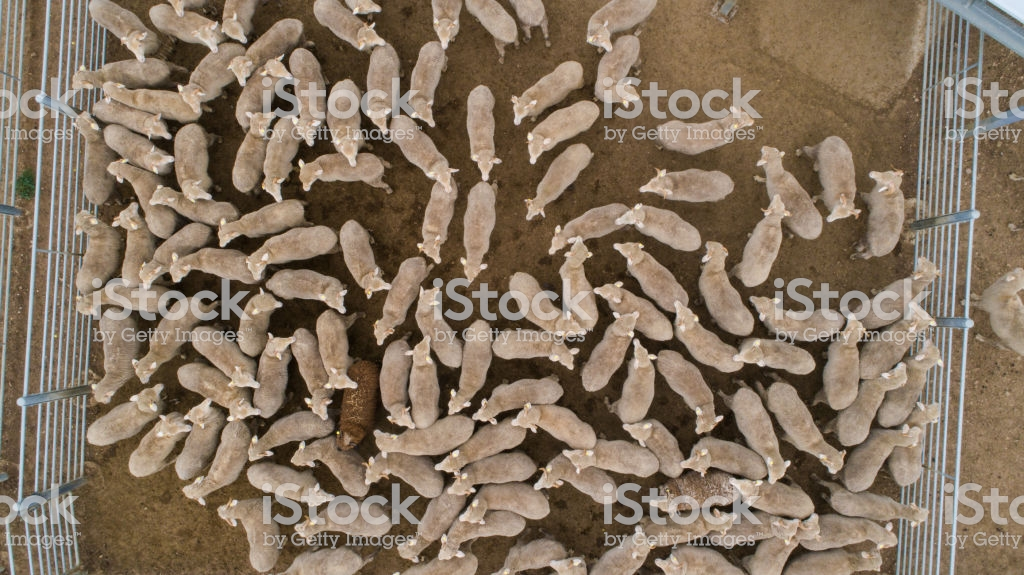sheep: (719, 383, 791, 487), (829, 362, 912, 445), (395, 484, 479, 563), (758, 143, 824, 242), (180, 416, 254, 504), (813, 469, 927, 526), (691, 237, 755, 337), (214, 490, 288, 575), (839, 425, 930, 494), (520, 141, 597, 221), (130, 302, 201, 387), (508, 57, 591, 127), (173, 41, 247, 119), (370, 257, 435, 345), (880, 338, 945, 426), (805, 130, 864, 226), (171, 354, 254, 422), (384, 114, 457, 191), (597, 275, 676, 346), (230, 12, 307, 84), (293, 431, 371, 502), (87, 383, 170, 449), (86, 307, 142, 404), (239, 222, 336, 278), (139, 214, 211, 289), (618, 236, 688, 313), (748, 290, 845, 343), (245, 459, 341, 512), (562, 428, 655, 482), (736, 195, 789, 289), (527, 93, 599, 162), (804, 510, 907, 558), (190, 323, 261, 391), (446, 321, 500, 408), (128, 407, 192, 480), (860, 165, 910, 258), (166, 233, 252, 287), (511, 397, 602, 448), (416, 165, 464, 261), (457, 176, 500, 283), (461, 477, 554, 526), (619, 199, 701, 254), (66, 113, 116, 202), (460, 82, 504, 183), (296, 150, 394, 195), (170, 120, 222, 204), (338, 217, 392, 297), (323, 75, 370, 166), (108, 198, 155, 288), (401, 36, 446, 130), (238, 54, 292, 132), (579, 1, 661, 51), (261, 111, 307, 200), (249, 332, 295, 420), (71, 214, 118, 299), (734, 332, 817, 380), (306, 305, 353, 389), (641, 163, 734, 205), (287, 49, 326, 147), (311, 1, 390, 48), (231, 112, 272, 198), (596, 524, 655, 575), (654, 541, 738, 575)
